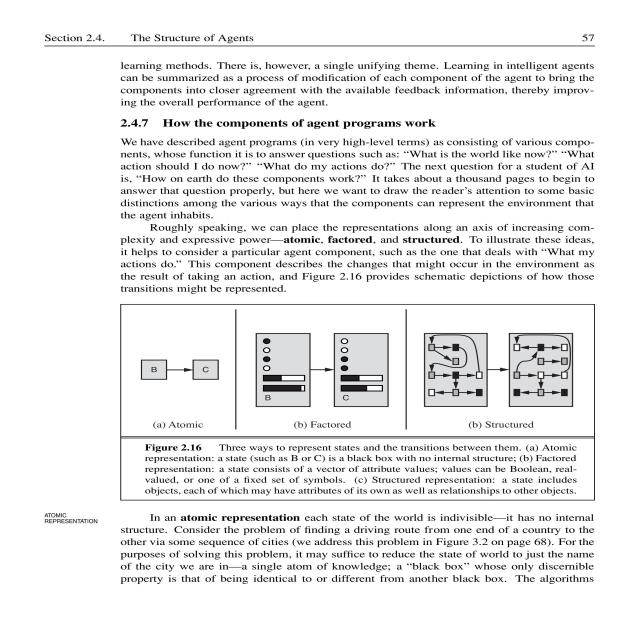diagram: (124, 301, 605, 504)
